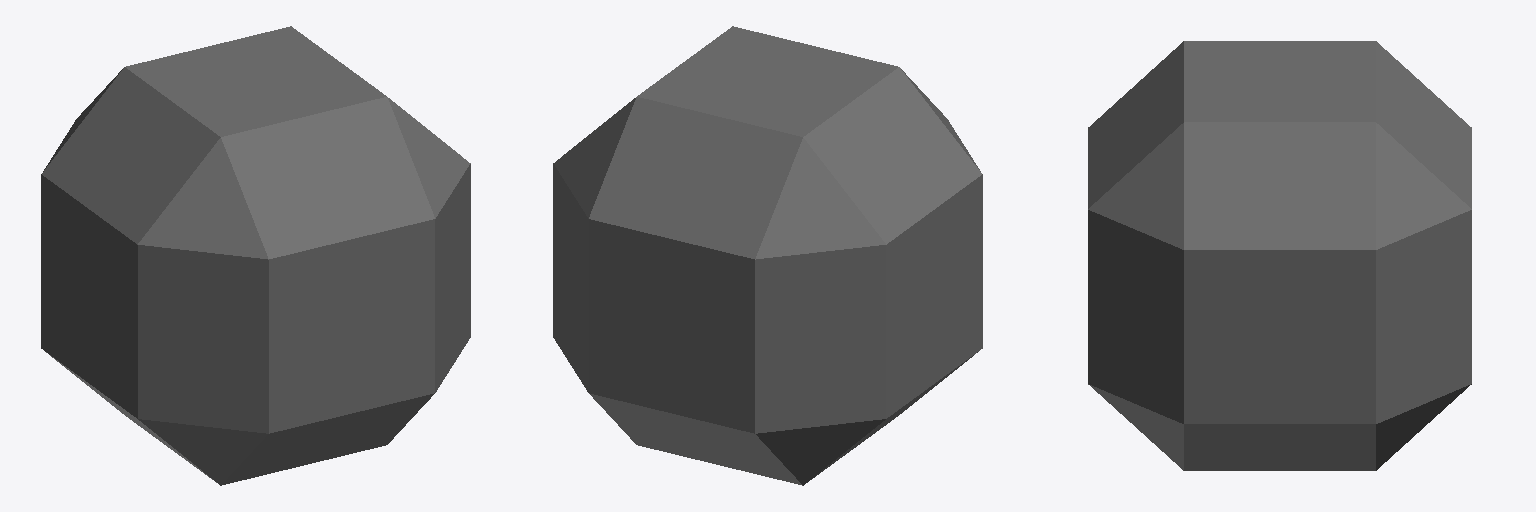
The model's file is pipe_core.obj.
3 views of the same model, side by side, from view 1: azimuth 30°, elevation 25°; view 2: azimuth 150°, elevation 25°; view 3: azimuth 270°, elevation 25° (orthographic).
Size of the model in its own units: 0.75 by 0.75 by 0.75.